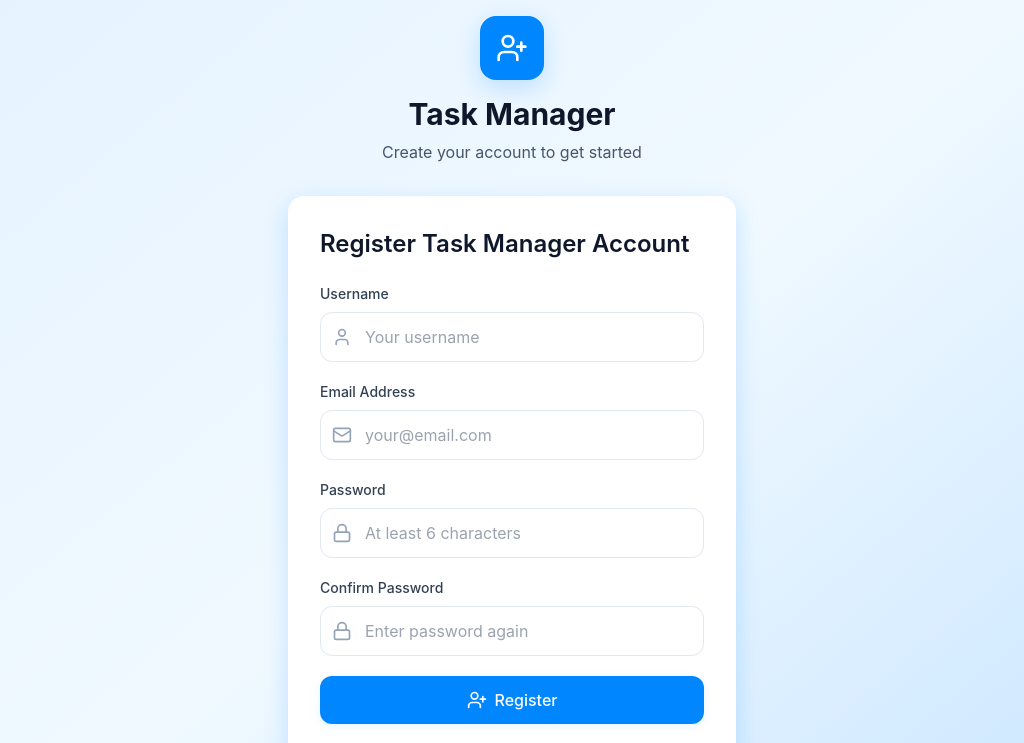
Scenario: RegisterPage › should show error when passwords do not match
Type "testuser" into the field labelled "Username" at (512, 337), box [320, 312, 704, 362]
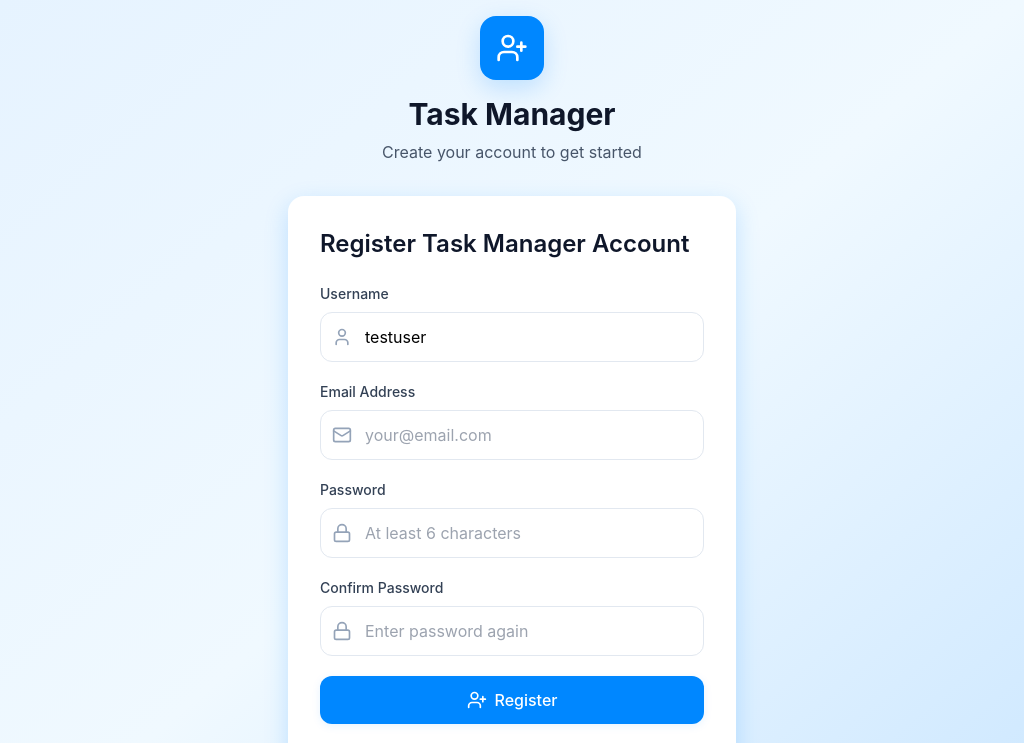
Type "test@example.com" into the field labelled "Email Address" at (512, 435), box [320, 410, 704, 460]
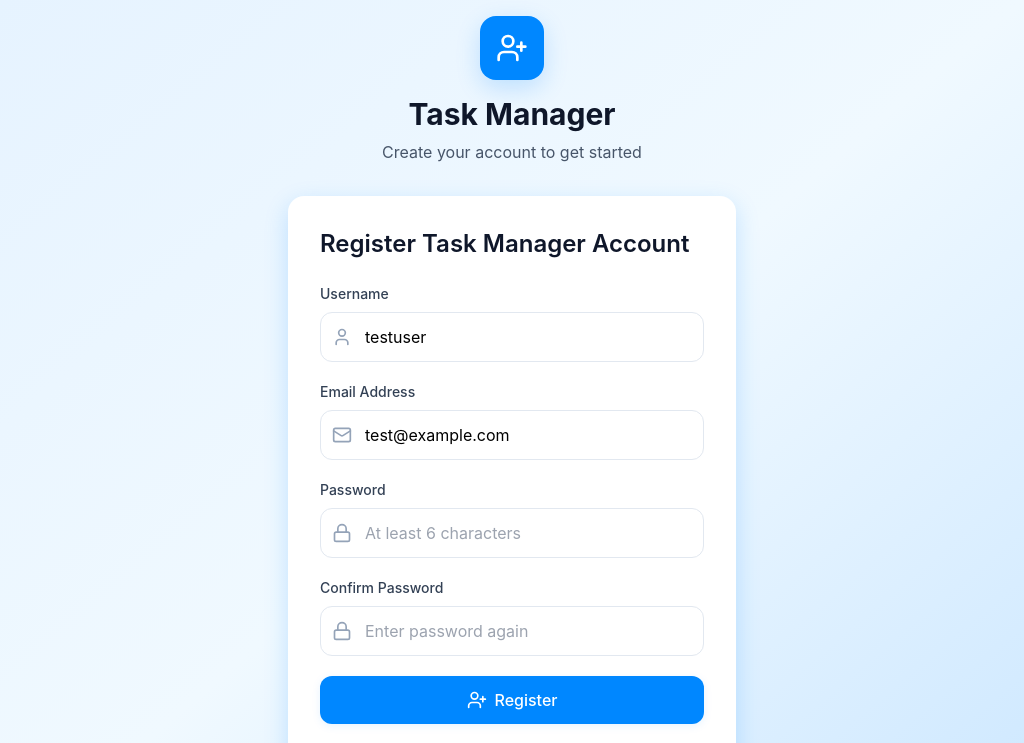
Type "password123" into the password field labelled "Password" at (512, 533), box [320, 508, 704, 558]
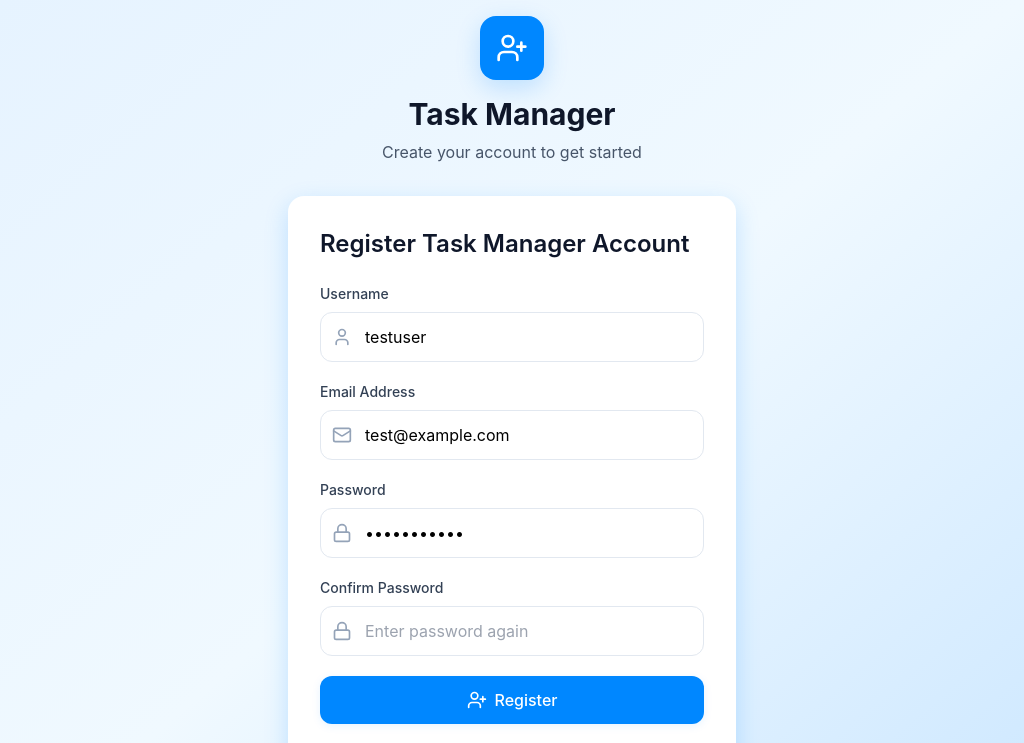
Type "password456" into the password field labelled "Confirm Password" at (512, 631), box [320, 606, 704, 656]
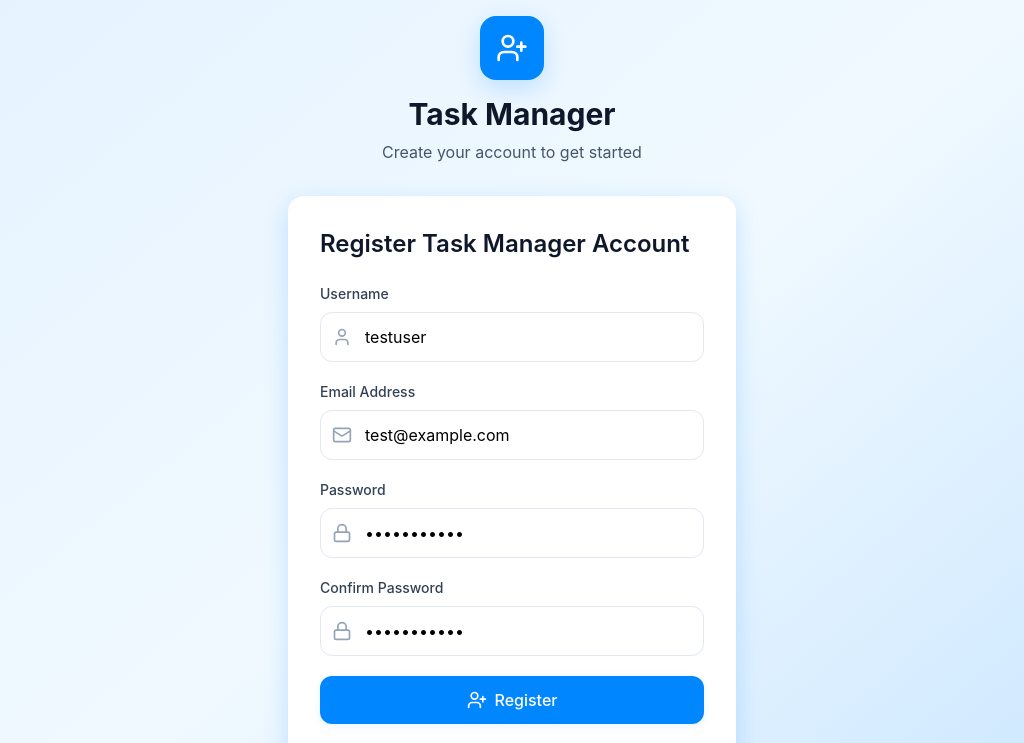
Click the button "Register" at (512, 700), box [320, 676, 704, 724]
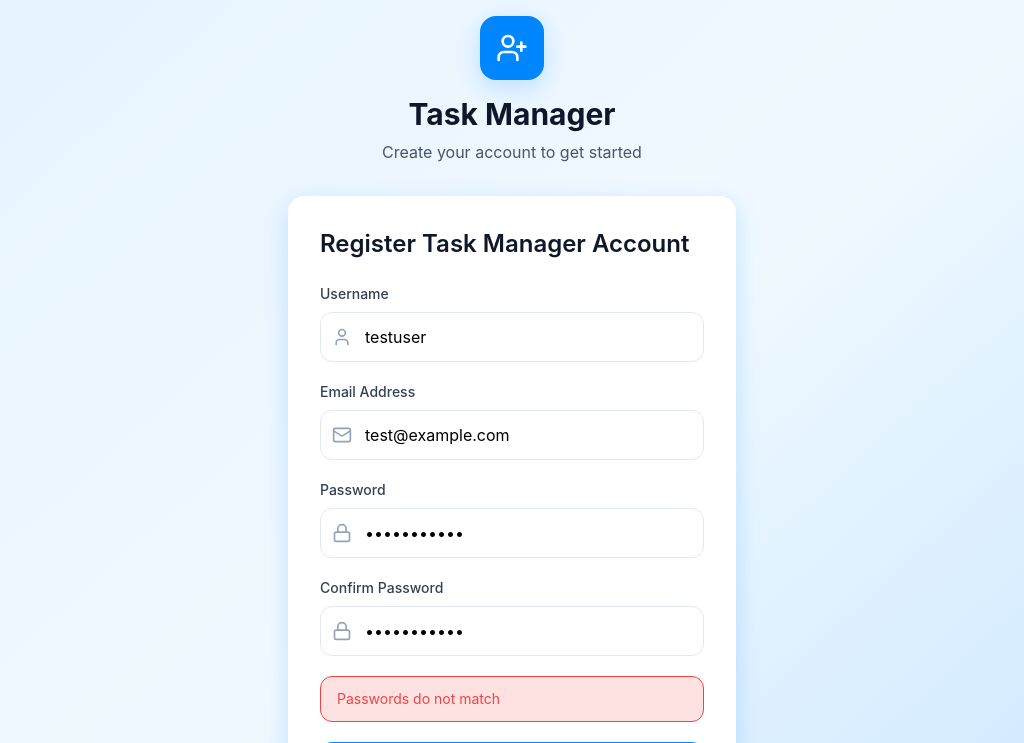
Expected: the text "Passwords do not match" is shown, [320, 676, 704, 722]
